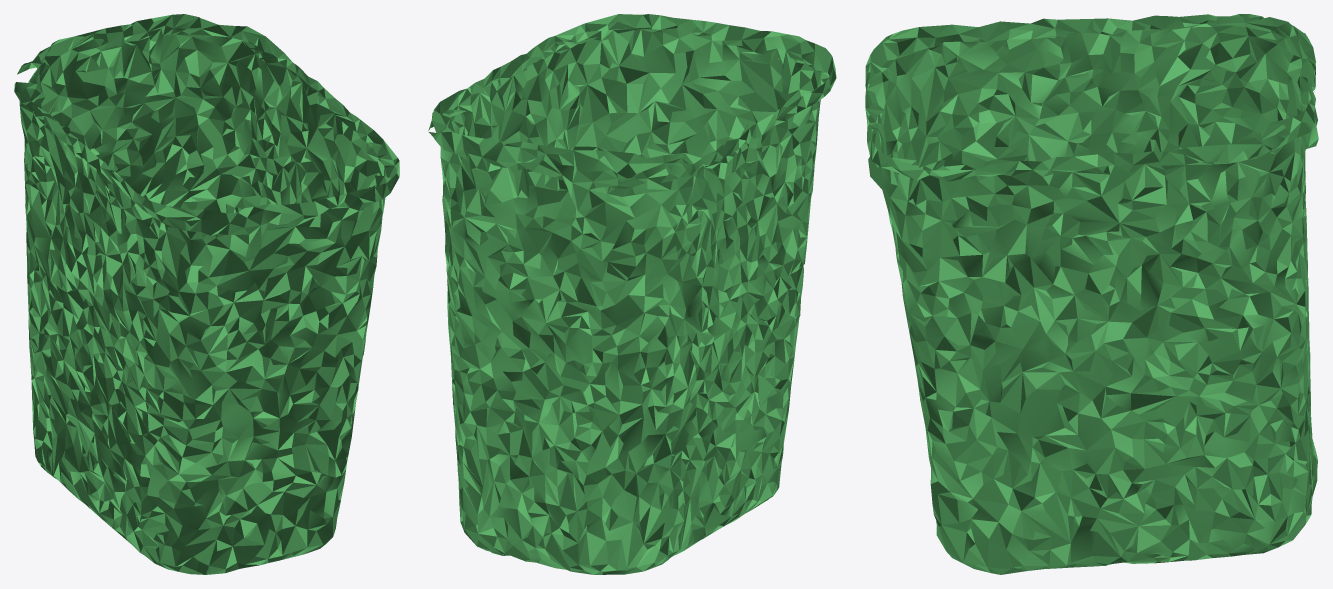
The model's file is h2_04_large_object_props.glb.
The picture shows the model from 3 angles, left to right: view 1: azimuth 30°, elevation 25°; view 2: azimuth 150°, elevation 25°; view 3: azimuth 270°, elevation 25°; orthographic projection. The views are drawn at different scales.
Parts seen in each view (by area): view 1: o00; view 2: o00; view 3: o00.
Boxes of the visible parts, box(x1,y1,x2,y2) form: o00: box(14, 14, 399, 574); o00: box(428, 14, 836, 574); o00: box(865, 14, 1318, 574).
Size of the model in its own units: 0.2124 by 0.3515 by 0.3013.
